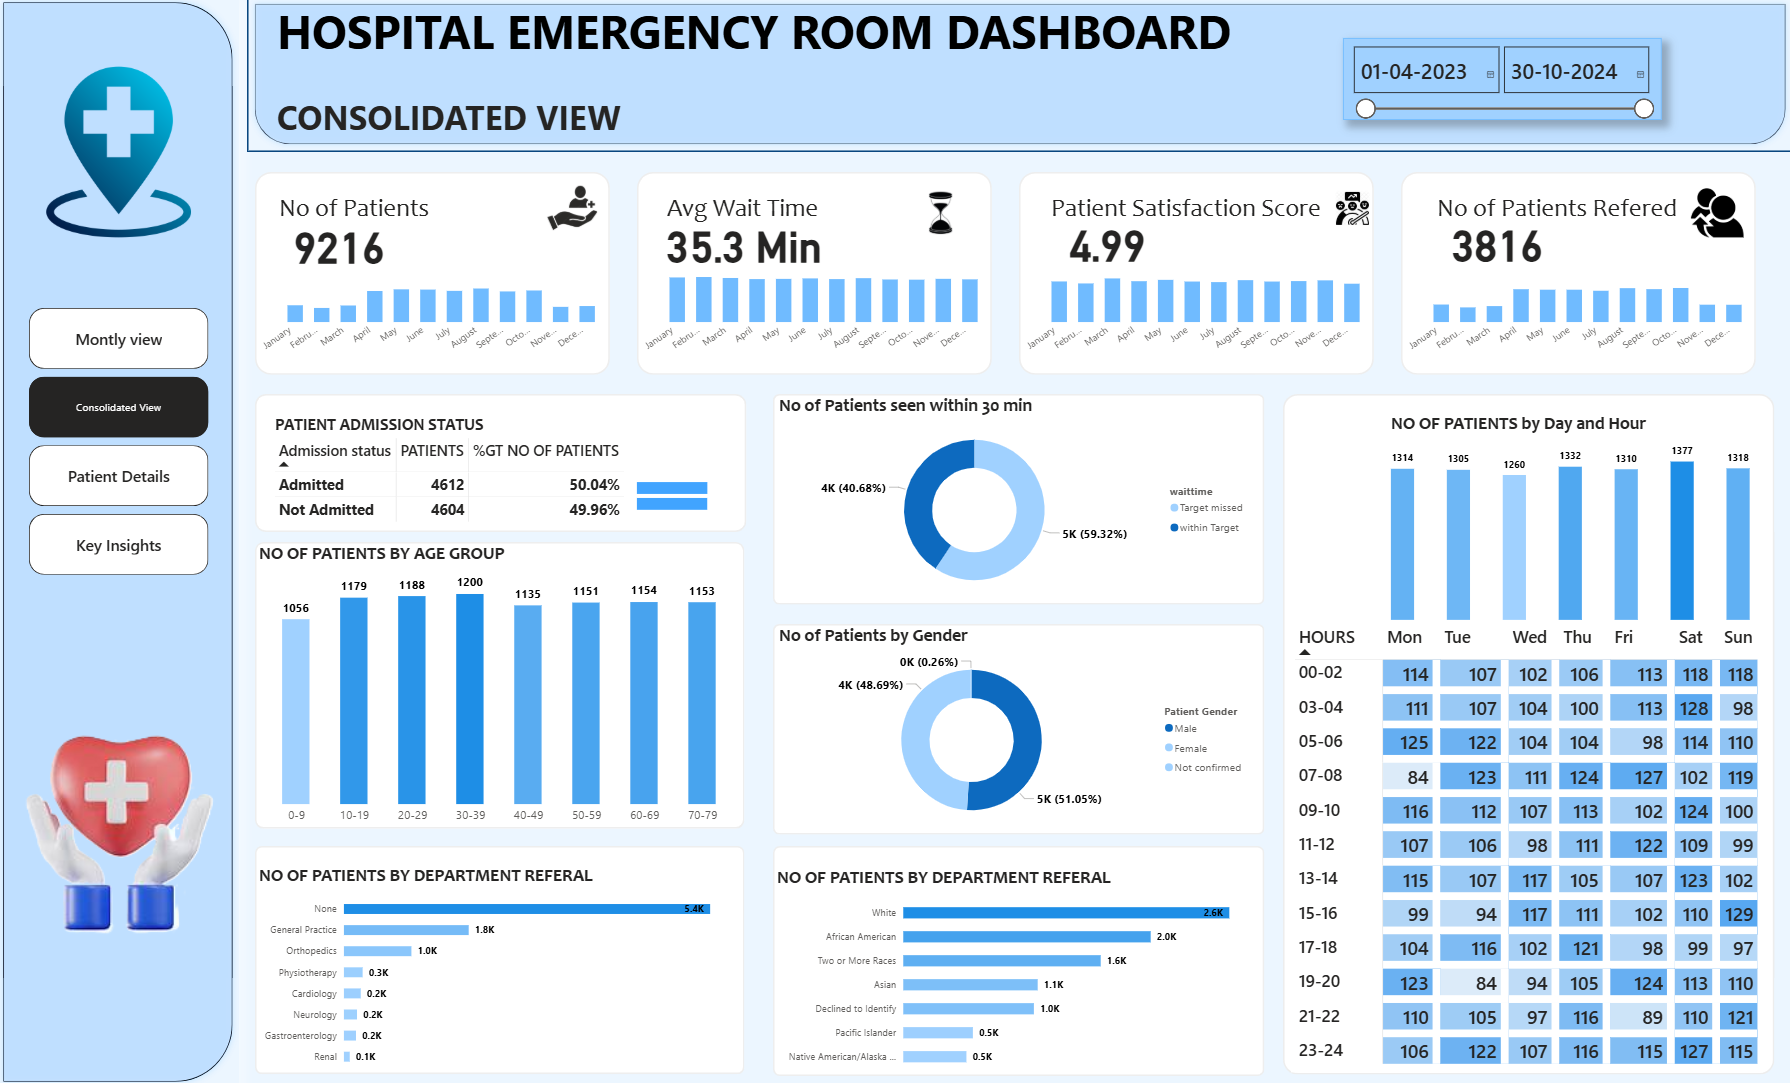

Layout of this report page (visuals, bound fields, positions):
{"tool":"powerbi","page":{"name":"Consolidated View","canvas":[2300,1400],"ordinal":1},"visuals":[{"type":"shape","box":[1647.5,510,630,872.5],"z":0},{"type":"shape","box":[330,226.7,455,260],"z":1000},{"type":"shape","box":[0,0,310,1400],"z":2000},{"type":"shape","box":[320,0,1982.5,200],"z":3000},{"type":"textbox","box":[355,0,1280,90],"z":4000},{"type":"textbox","box":[355,120,460,80],"z":5000},{"type":"card","fields":{"Values":["Hospital ER_Data.NO OF PATIENTS"]},"box":[356,276,164,80],"z":6000},{"type":"textbox","box":[356.7,246.7,220,56.7],"z":7000},{"type":"columnChart","fields":{"Category":["Date Table.MONTH NAME"],"Y":["Hospital ER_Data.NO OF PATIENTS"]},"box":[330,340,455,125],"z":8000},{"type":"slicer","fields":{"Values":["Date Table.Date"]},"box":[1725,55,408.3,105],"z":9000},{"type":"shape","box":[820,225,455,260],"z":10000},{"type":"shape","box":[1310,225,455,260],"z":11000},{"type":"shape","box":[1800,225,455,260],"z":12000},{"type":"columnChart","fields":{"Category":["Date Table.MONTH NAME"],"Y":["Avg(Hospital ER_Data.Patient Waittime)"]},"box":[820,340,456,125],"z":13000},{"type":"columnChart","fields":{"Y":["Avg(Hospital ER_Data.Patient Satisfaction Score)"],"Category":["Date Table.MONTH NAME"]},"box":[1310,340,456,125],"z":14000},{"type":"columnChart","fields":{"Category":["Date Table.MONTH NAME"],"Y":["Hospital ER_Data.no of patients refered"]},"box":[1800,340,456,125],"z":15000},{"type":"textbox","box":[852.9,247.1,220,55.7],"z":16000},{"type":"card","fields":{"Values":["Hospital ER_Data.avg wait time"]},"box":[848,274,218,82],"z":17000},{"type":"card","fields":{"Values":["Avg(Hospital ER_Data.Patient Satisfaction Score)"]},"box":[1340,274.4,164.4,80],"z":18000},{"type":"card","fields":{"Values":["Hospital ER_Data.no of patients refered"]},"box":[1841.1,274.4,164.4,80],"z":19000},{"type":"textbox","box":[1346,246,368,58],"z":20000},{"type":"textbox","box":[1842,246,336,56],"z":21000},{"type":"shape","box":[330,510,630,177],"z":22000,"group":"g1"},{"type":"group","id":"g1","title":"Group 1","box":[330,510,630,177],"z":22000},{"type":"shape","box":[330,700,627.5,367.5],"z":23000},{"type":"pivotTable","title":"PATIENT ADMISSION STATUS","fields":{"Rows":["Hospital ER_Data.admission status"],"Values":["Hospital ER_Data.NO OF PATIENTS1","Divide(Hospital ER_Data.NO OF PATIENTS, ScopedEval(Hospital ER_Data.NO OF PATIENTS, []))"]},"box":[350,536.7,470,150],"z":24000,"group":"g1"},{"type":"clusteredColumnChart","title":"NO OF PATIENTS BY AGE GROUP","fields":{"Category":["Hospital ER_Data.AGE GROUP"],"Y":["Hospital ER_Data.NO OF PATIENTS"]},"box":[330,700,627.5,370],"z":24000},{"type":"barChart","fields":{"Category":["Hospital ER_Data.admission status"],"Y":["Hospital ER_Data.NO OF PATIENTS"]},"box":[815,600,127.5,75],"z":25000,"group":"g1"},{"type":"shape","box":[330,1090,627.5,292.5],"z":25000},{"type":"clusteredBarChart","title":"NO OF PATIENTS BY DEPARTMENT REFERAL","fields":{"Category":["Hospital ER_Data.Department Referral"],"Y":["Hospital ER_Data.NO OF PATIENTS"]},"box":[330,1112.5,612.5,270],"z":26000},{"type":"shape","box":[996,510,630,270],"z":27000},{"type":"donutChart","title":"No of Patients seen within 30 min","fields":{"Category":["Hospital ER_Data.waittime"],"Y":["Hospital ER_Data.NO OF PATIENTS"]},"box":[998,510,614,270],"z":28000},{"type":"shape","box":[996,804,630,270],"z":29000},{"type":"donutChart","title":"No of Patients by Gender","fields":{"Category":["Hospital ER_Data.Patient Gender"],"Y":["Hospital ER_Data.NO OF PATIENTS"]},"box":[998,804,614,270],"z":30000},{"type":"shape","box":[995,1090,630,295],"z":31000},{"type":"clusteredBarChart","title":"NO OF PATIENTS BY DEPARTMENT REFERAL","fields":{"Y":["Hospital ER_Data.NO OF PATIENTS"],"Category":["Hospital ER_Data.Patient Race"]},"box":[995,1115,615,270],"z":32000},{"type":"pivotTable","fields":{"Rows":["Hospital ER_Data.Wait time intereval"],"Columns":["Date Table.DAYNAME"],"Values":["Hospital ER_Data.NO OF PATIENTS"]},"box":[1660,800,605,580],"z":33000},{"type":"columnChart","title":"NO OF PATIENTS by Day and Hour","fields":{"Category":["Date Table.DAYNAME"],"Y":["Hospital ER_Data.NO OF PATIENTS"]},"box":[1782.5,532.5,472.5,272.5],"z":34000},{"type":"image","box":[690,165,95,215],"z":35000},{"type":"image","box":[1189.4,240.6,40,73.8],"z":36000},{"type":"image","box":[1710,227.5,55,87.5],"z":37000},{"type":"image","box":[2166.2,240,77.5,73.8],"z":38000},{"type":"image","box":[40,0,230,400],"z":39000},{"type":"pageNavigator","box":[40,400,230,342.5],"z":40000},{"type":"image","box":[0,762.5,310,620],"z":41000}]}

Visuals, with their boxes in screenshot pixels (x1, y1, x2, y2), scaled from the page's 2300x1400 canvas onto the 1790x1083 screenshot:
shape: region(1282, 395, 1772, 1069)
shape: region(257, 175, 611, 376)
shape: region(0, 0, 241, 1082)
shape: region(249, 0, 1789, 155)
textbox: region(276, 0, 1272, 70)
textbox: region(276, 93, 634, 155)
card - Hospital ER_Data.NO OF PATIENTS: region(277, 214, 405, 275)
textbox: region(278, 191, 449, 235)
columnChart - Date Table.MONTH NAME x Hospital ER_Data.NO OF PATIENTS: region(257, 263, 611, 360)
slicer - Date Table.Date: region(1342, 43, 1660, 124)
shape: region(638, 174, 992, 375)
shape: region(1020, 174, 1374, 375)
shape: region(1401, 174, 1755, 375)
columnChart - Date Table.MONTH NAME x Avg(Hospital ER_Data.Patient Waittime): region(638, 263, 993, 360)
columnChart - Avg(Hospital ER_Data.Patient Satisfaction Score) x Date Table.MONTH NAME: region(1020, 263, 1374, 360)
columnChart - Date Table.MONTH NAME x Hospital ER_Data.no of patients refered: region(1401, 263, 1756, 360)
textbox: region(664, 191, 835, 234)
card - Hospital ER_Data.avg wait time: region(660, 212, 830, 275)
card - Avg(Hospital ER_Data.Patient Satisfaction Score): region(1043, 212, 1171, 274)
card - Hospital ER_Data.no of patients refered: region(1433, 212, 1561, 274)
textbox: region(1048, 190, 1334, 235)
textbox: region(1434, 190, 1695, 234)
shape: region(257, 395, 747, 531)
"Group 1" group: region(257, 395, 747, 531)
shape: region(257, 542, 745, 826)
"PATIENT ADMISSION STATUS" pivotTable: region(272, 415, 638, 531)
"NO OF PATIENTS BY AGE GROUP" clusteredColumnChart: region(257, 542, 745, 828)
barChart - Hospital ER_Data.admission status x Hospital ER_Data.NO OF PATIENTS: region(634, 464, 734, 522)
shape: region(257, 843, 745, 1069)
"NO OF PATIENTS BY DEPARTMENT REFERAL" clusteredBarChart: region(257, 861, 734, 1069)
shape: region(775, 395, 1265, 603)
"No of Patients seen within 30 min" donutChart: region(777, 395, 1255, 603)
shape: region(775, 622, 1265, 831)
"No of Patients by Gender" donutChart: region(777, 622, 1255, 831)
shape: region(774, 843, 1265, 1071)
"NO OF PATIENTS BY DEPARTMENT REFERAL" clusteredBarChart: region(774, 863, 1253, 1071)
pivotTable - Hospital ER_Data.Wait time intereval x Date Table.DAYNAME: region(1292, 619, 1763, 1068)
"NO OF PATIENTS by Day and Hour" columnChart: region(1387, 412, 1755, 623)
image: region(537, 128, 611, 294)
image: region(926, 186, 957, 243)
image: region(1331, 176, 1374, 244)
image: region(1686, 186, 1746, 243)
image: region(31, 0, 210, 309)
pageNavigator: region(31, 309, 210, 574)
image: region(0, 590, 241, 1069)
